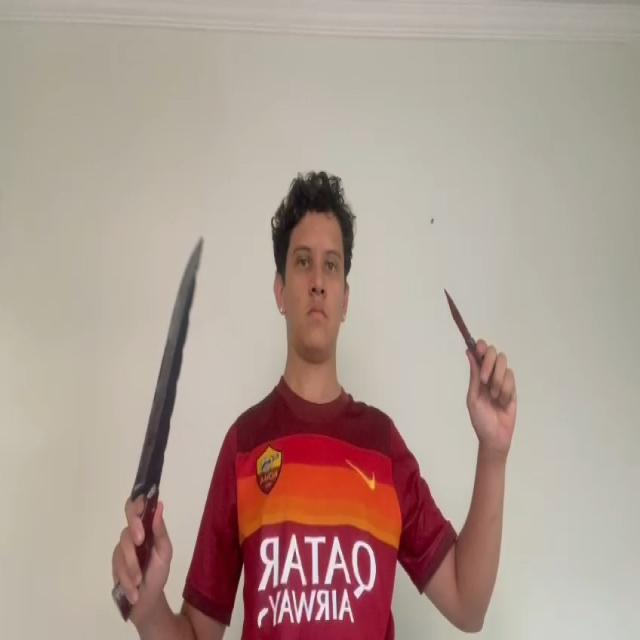knife: (134, 233, 204, 494), (444, 289, 469, 344)
